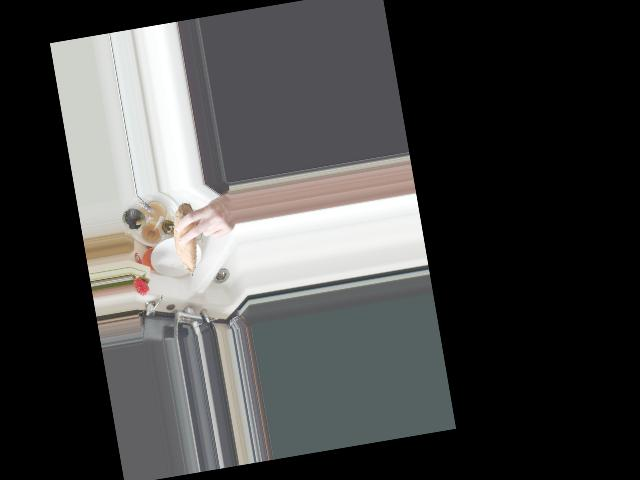sweet_potato: (168, 198, 208, 280)
